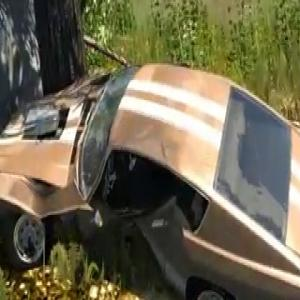serious: (0, 33, 300, 300)
